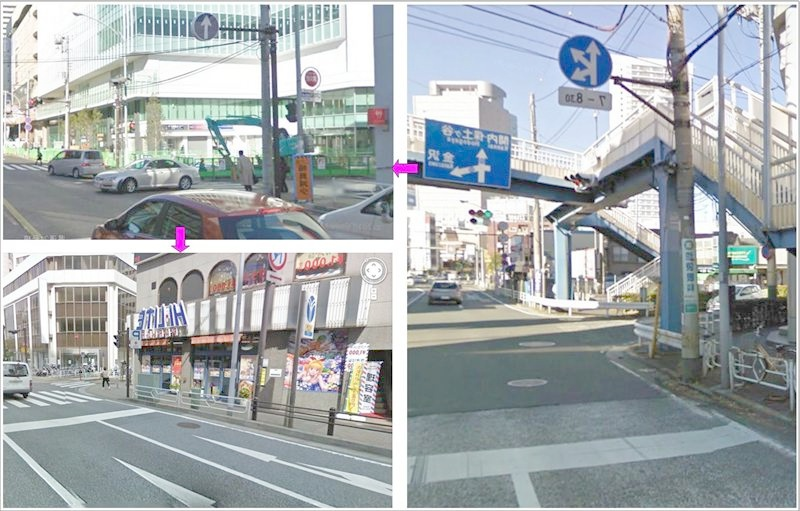Direction_sign: (557, 32, 611, 91), (188, 11, 221, 41)
